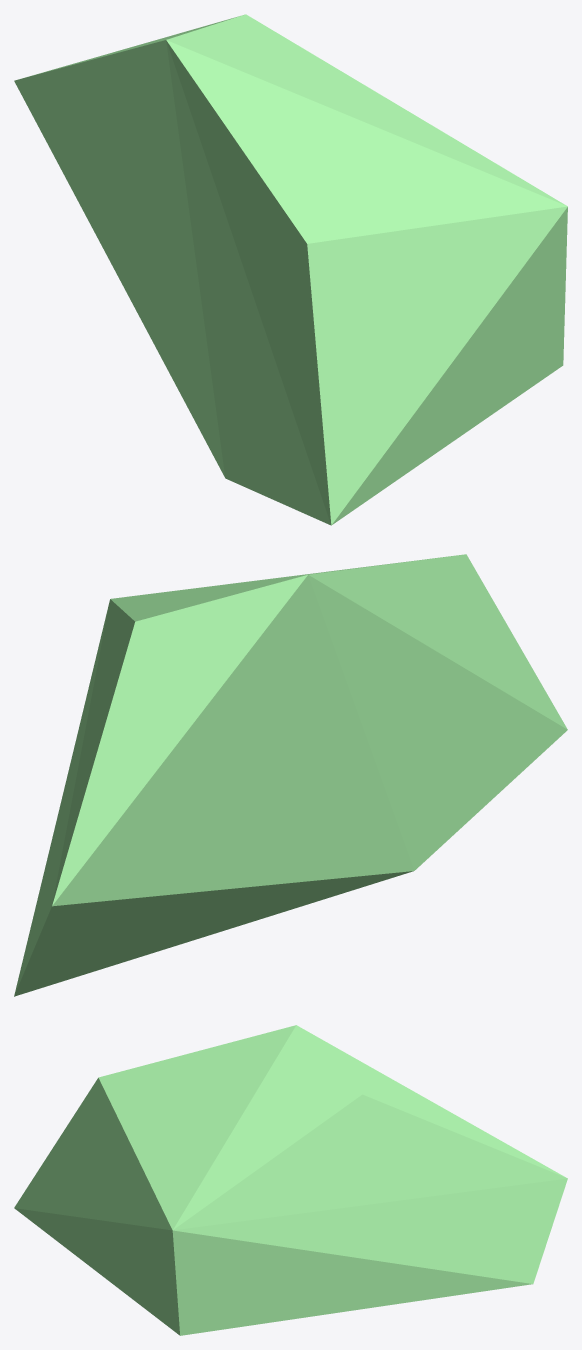
The model's file is palle_scrotali_buone_L3_sx_respondable_TOOL2_coll_10.dae.
3 renders of one model, top to bottom at view 1: azimuth 30°, elevation 25°; view 2: azimuth 150°, elevation 25°; view 3: azimuth 270°, elevation 25°, orthographic. The views are drawn at different scales.
Visible parts, largest first — view 1: Node_000002334E246040; view 2: Node_000002334E246040; view 3: Node_000002334E246040.
Part boxes in pixels (x1=…): Node_000002334E246040: x1=14, y1=14, x2=567, y2=525; Node_000002334E246040: x1=14, y1=554, x2=567, y2=996; Node_000002334E246040: x1=14, y1=1025, x2=567, y2=1335.
Size of the model in its own units: 0.00216 by 0.00211 by 0.00446.
